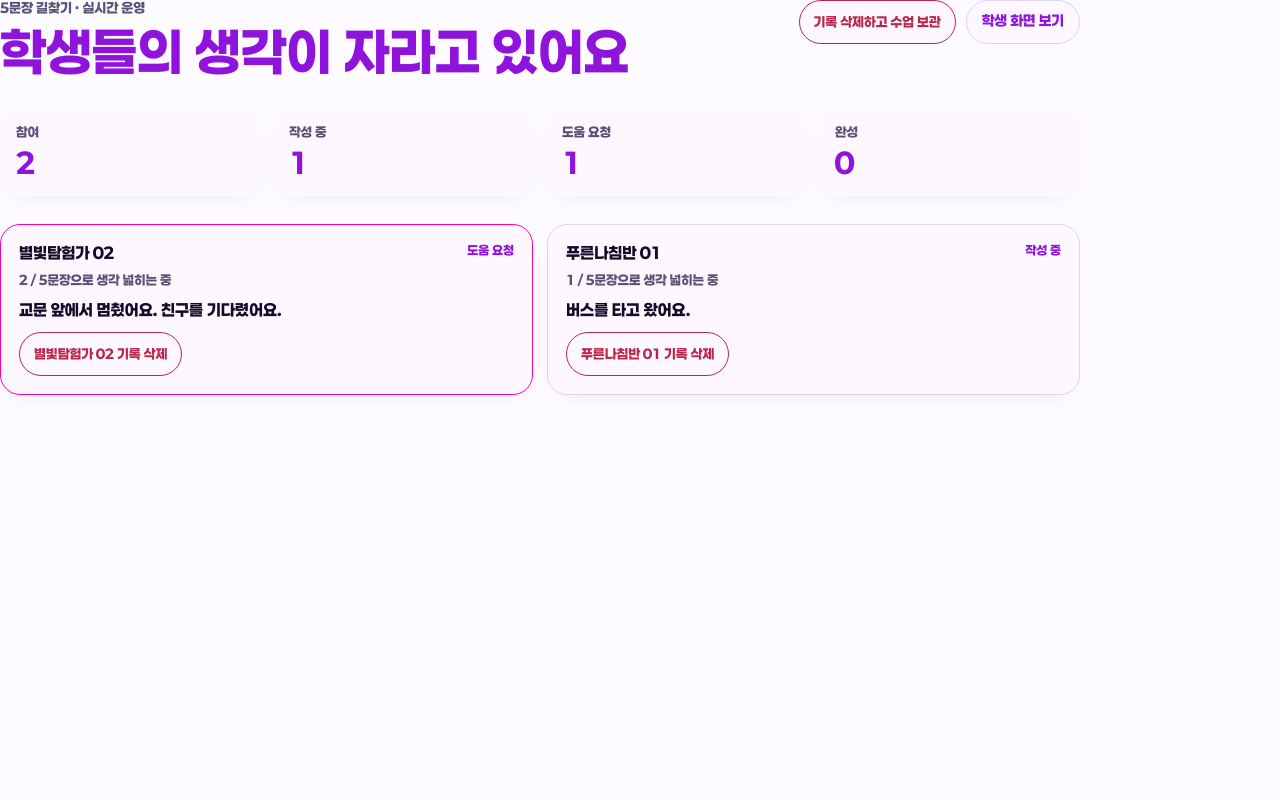
Scenario: TeacherDashboard › 삭제 진행 상황을 대화상자에 보여 준다
The image size is (1280, 800).
Click the button "별빛탐험가 02 기록 삭제" at (101, 354), box [19,332,182,376]
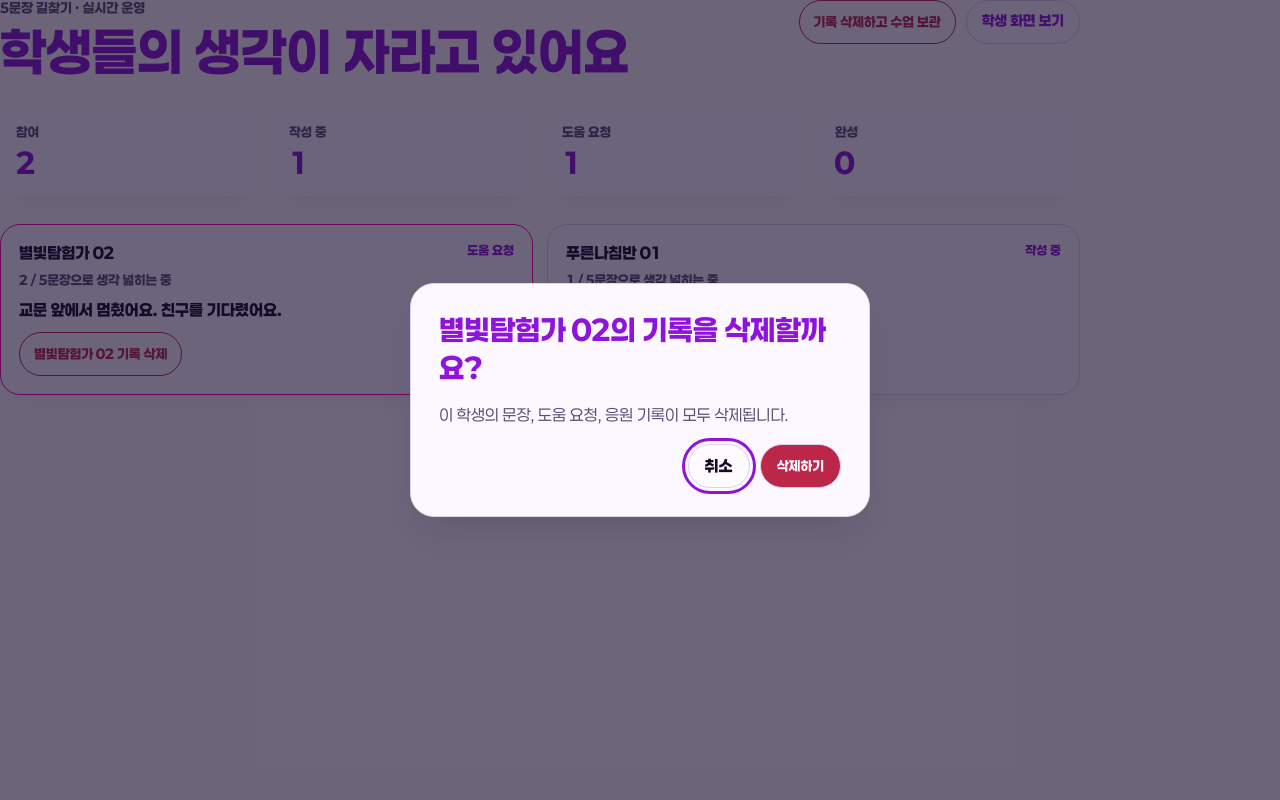
Click the button "삭제하기" at (800, 466), box [760,444,841,488]
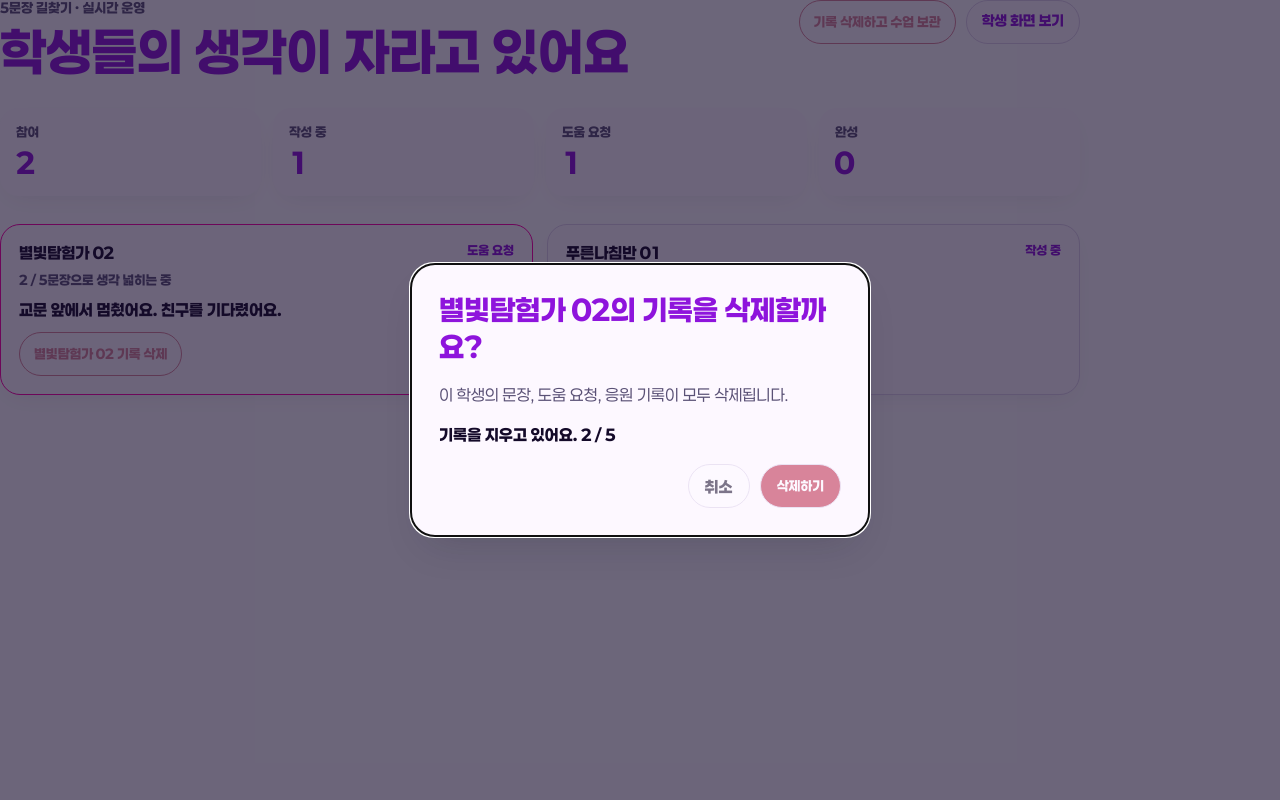
Check: the dialog shows "기록을 지우고 있어요. 2 / 5", box [439,425,616,444]
Check: the button "삭제하기" is disabled
Check: the button "취소" is disabled, box [688,464,750,508]
Click the button "삭제하기" at (800, 486), box [760,464,841,508]
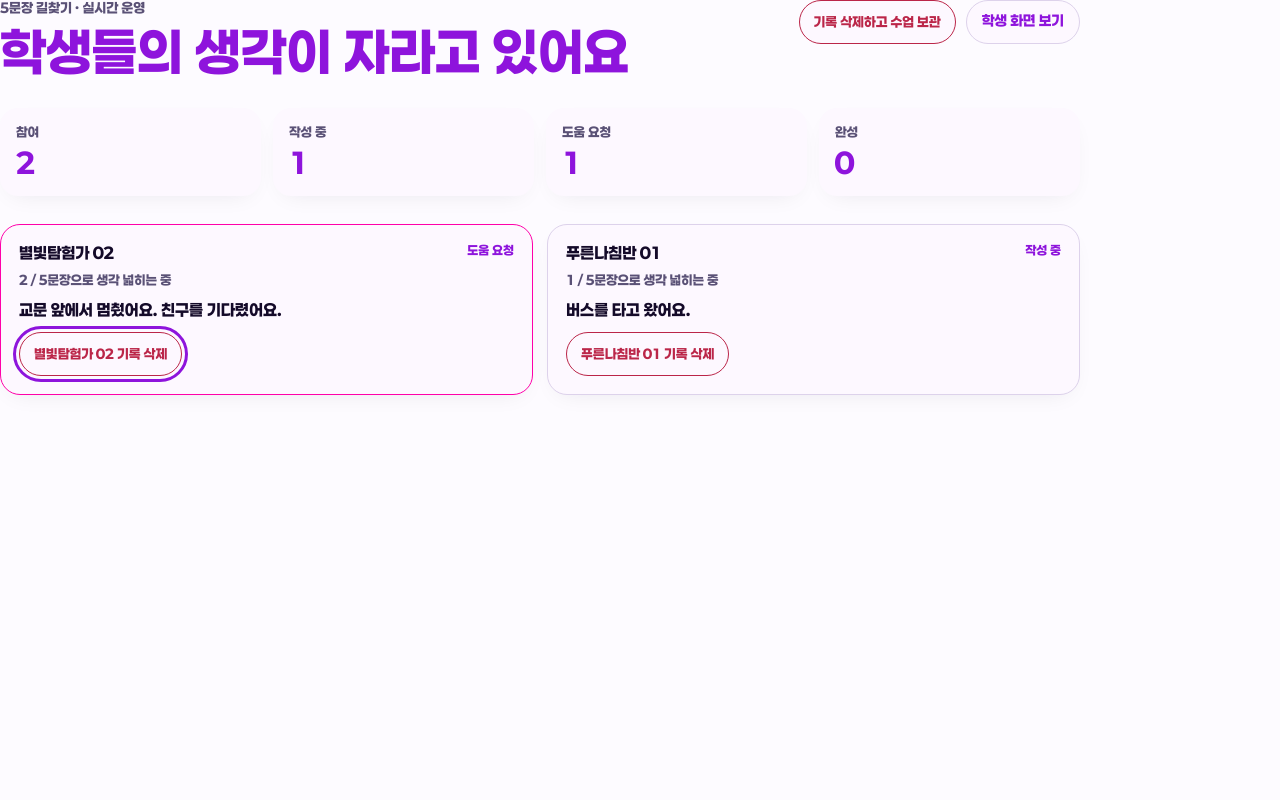
Check: the dialog is gone
